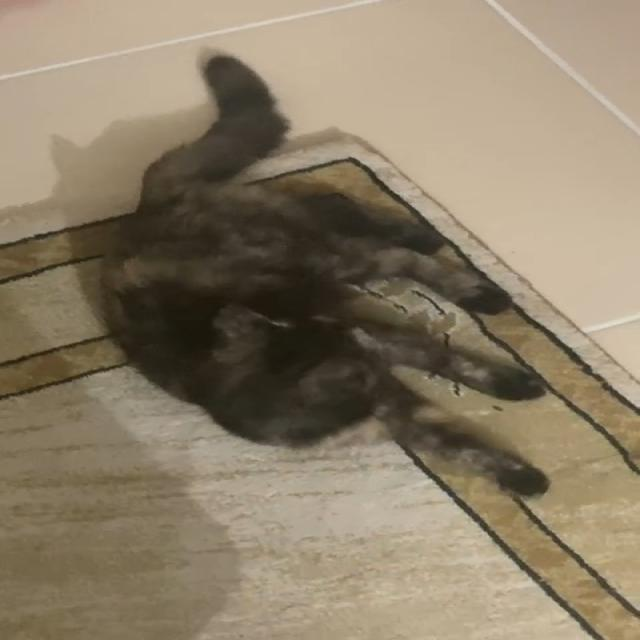authorized: (96, 46, 552, 497)
